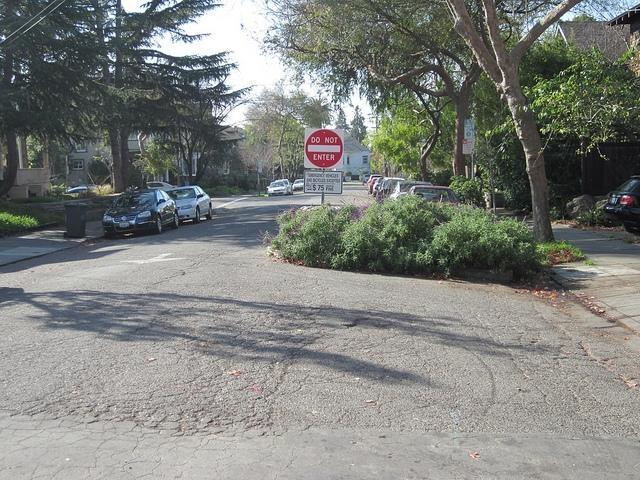car: (103, 188, 181, 238), (599, 173, 640, 235), (168, 185, 214, 221), (410, 186, 462, 204), (389, 180, 433, 198), (375, 176, 405, 196), (266, 182, 289, 197), (273, 178, 294, 194), (372, 179, 383, 196), (368, 176, 379, 193), (292, 178, 304, 191)
